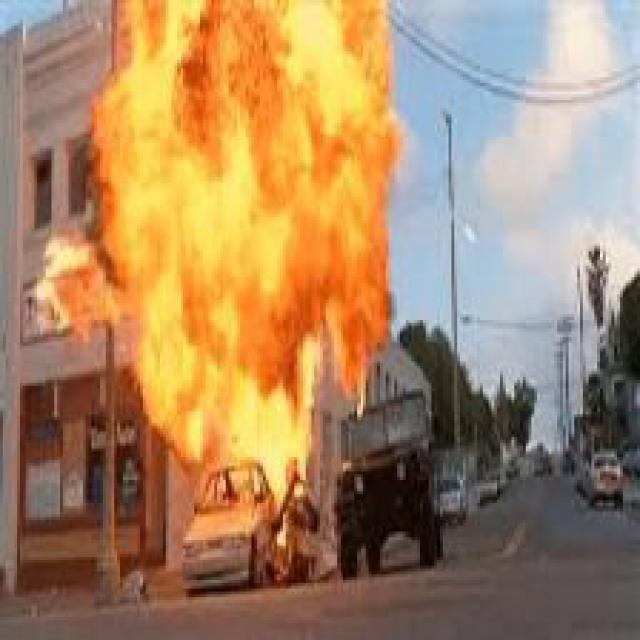fire: (43, 3, 420, 523)
